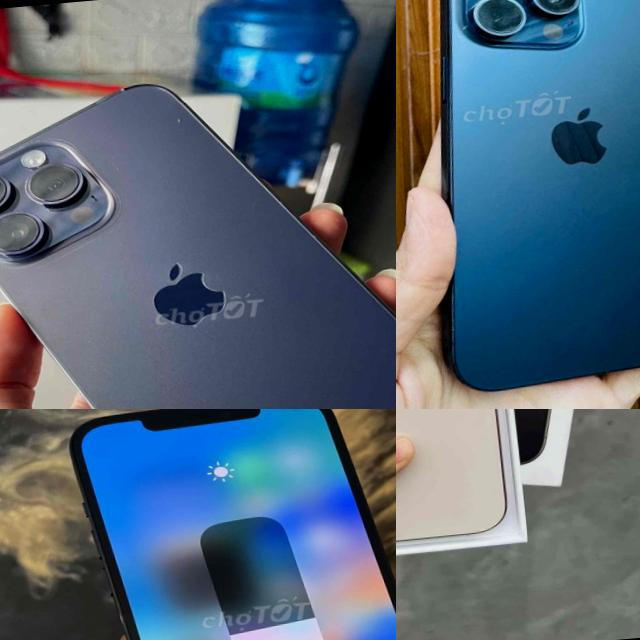gen_12_13: (63, 409, 396, 640)
gen_14: (0, 51, 396, 409)
gen_15: (415, 0, 640, 409)
gen_16: (396, 409, 519, 566)
